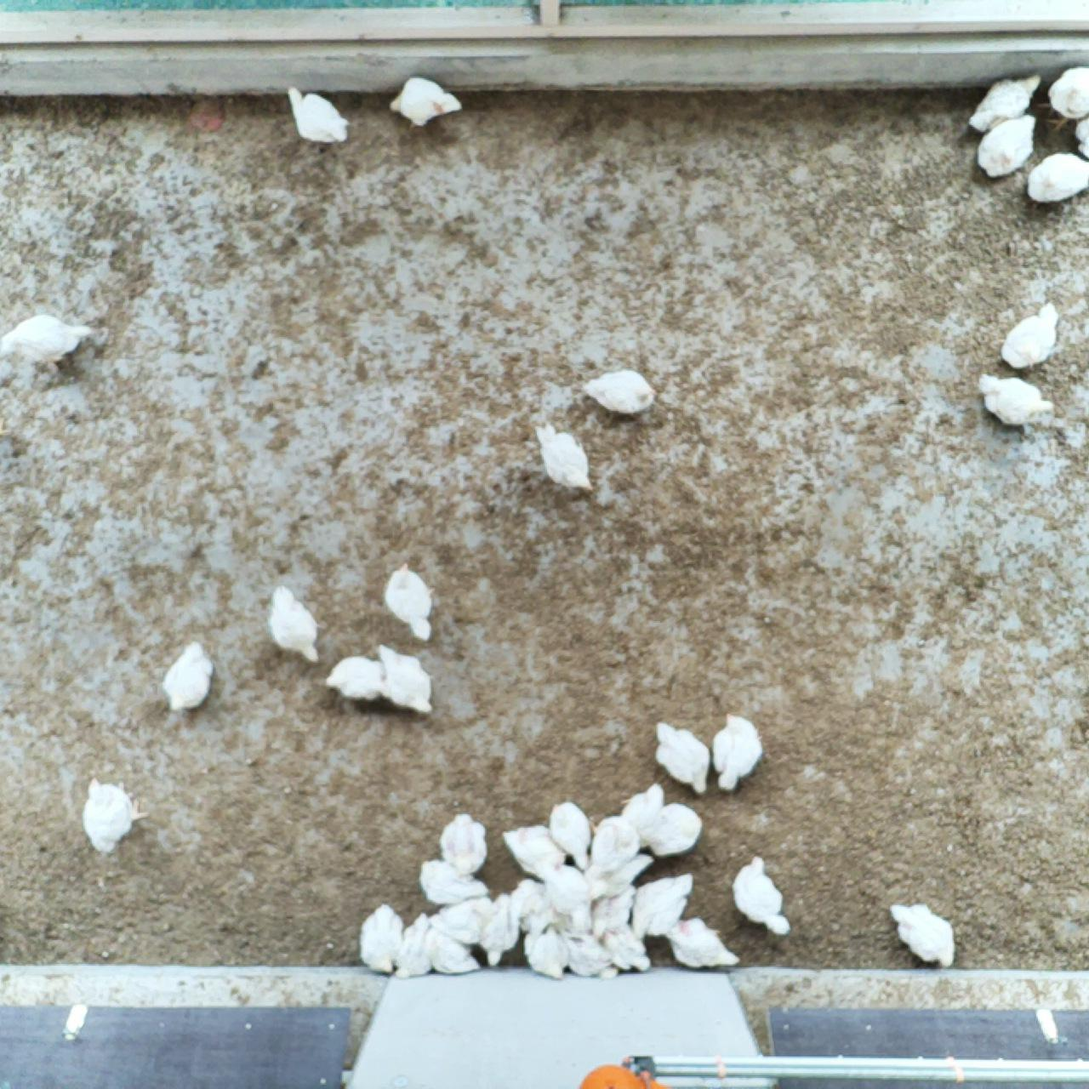chicken: (79, 774, 149, 855), (729, 853, 794, 935), (966, 73, 1046, 139), (528, 421, 595, 497), (975, 370, 1059, 430), (0, 311, 94, 364), (1000, 294, 1061, 374), (710, 708, 767, 793), (888, 899, 957, 967), (372, 643, 435, 716), (630, 870, 694, 941), (499, 821, 573, 882), (652, 720, 711, 796), (267, 583, 321, 666), (662, 917, 741, 973), (383, 561, 438, 640), (284, 81, 352, 144), (159, 639, 213, 717), (582, 366, 662, 418), (974, 114, 1036, 181), (385, 75, 460, 129), (430, 892, 499, 949), (1024, 148, 1089, 206), (587, 809, 641, 878), (544, 861, 596, 932), (390, 909, 439, 982), (586, 850, 656, 901), (356, 902, 403, 977), (643, 803, 704, 859), (442, 808, 490, 878), (510, 879, 572, 933), (620, 781, 666, 852), (479, 888, 520, 967), (422, 924, 483, 976), (549, 801, 595, 869), (418, 858, 486, 904), (324, 654, 391, 700), (589, 883, 640, 941), (556, 929, 617, 977), (597, 923, 653, 972), (1046, 64, 1089, 123), (522, 916, 563, 977), (1071, 117, 1089, 161)
